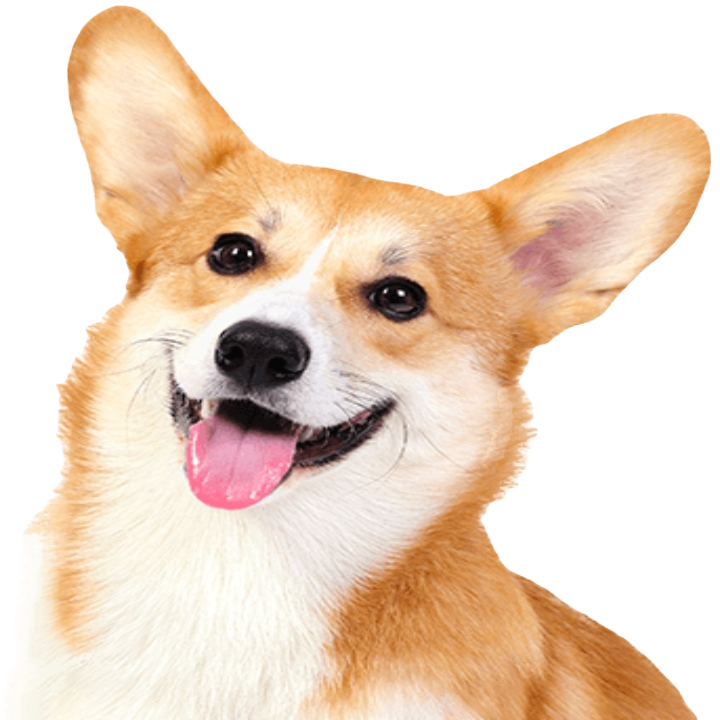Dog: (24, 10, 712, 714)
